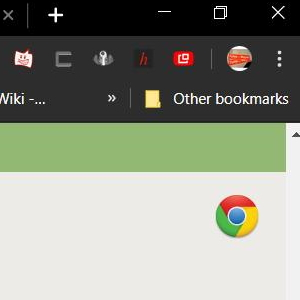chrome: (215, 194, 259, 238)
